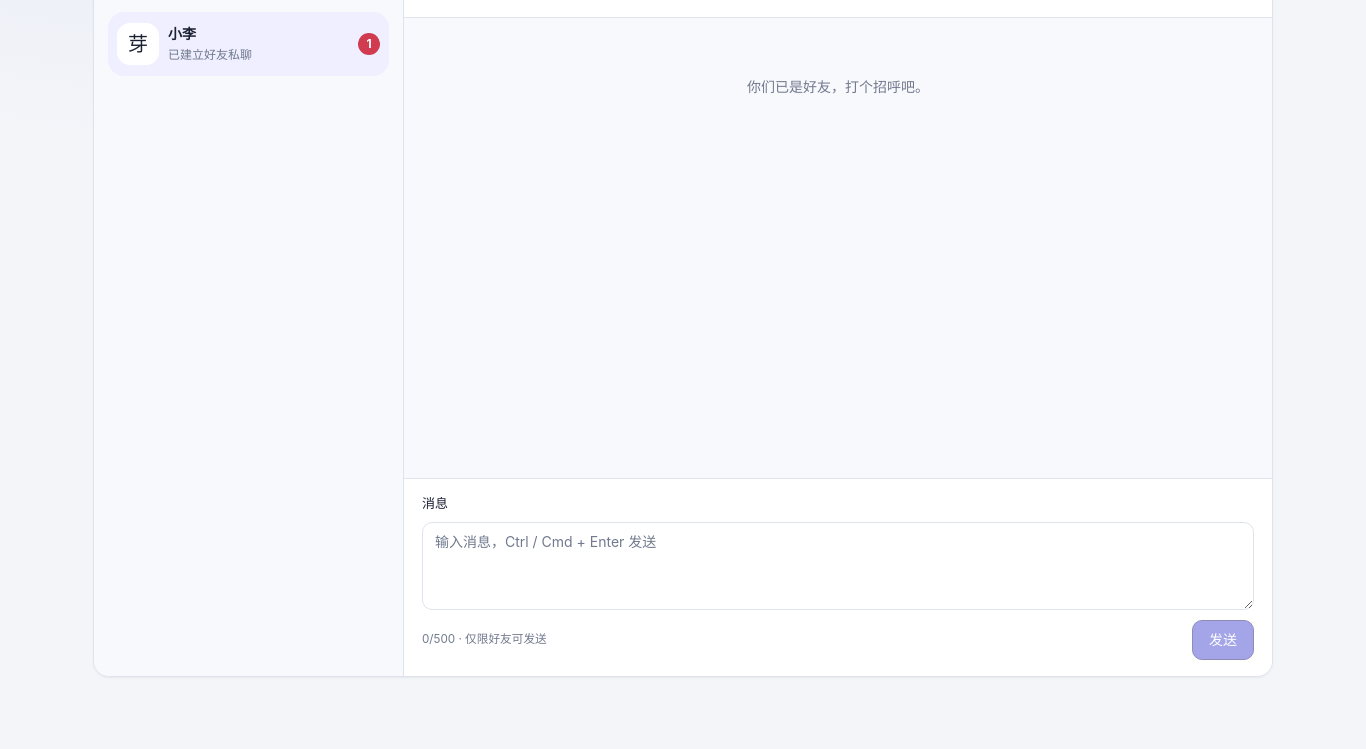
Scenario: CommunityDirectMessagesPage › reconciles a committed send from REST when the realtime message event is lost
(page scrolled)
Type "下班后一起喝咖啡" into the text box labelled "消息" at (838,566), box x1=422 y1=522 x2=1254 y2=610
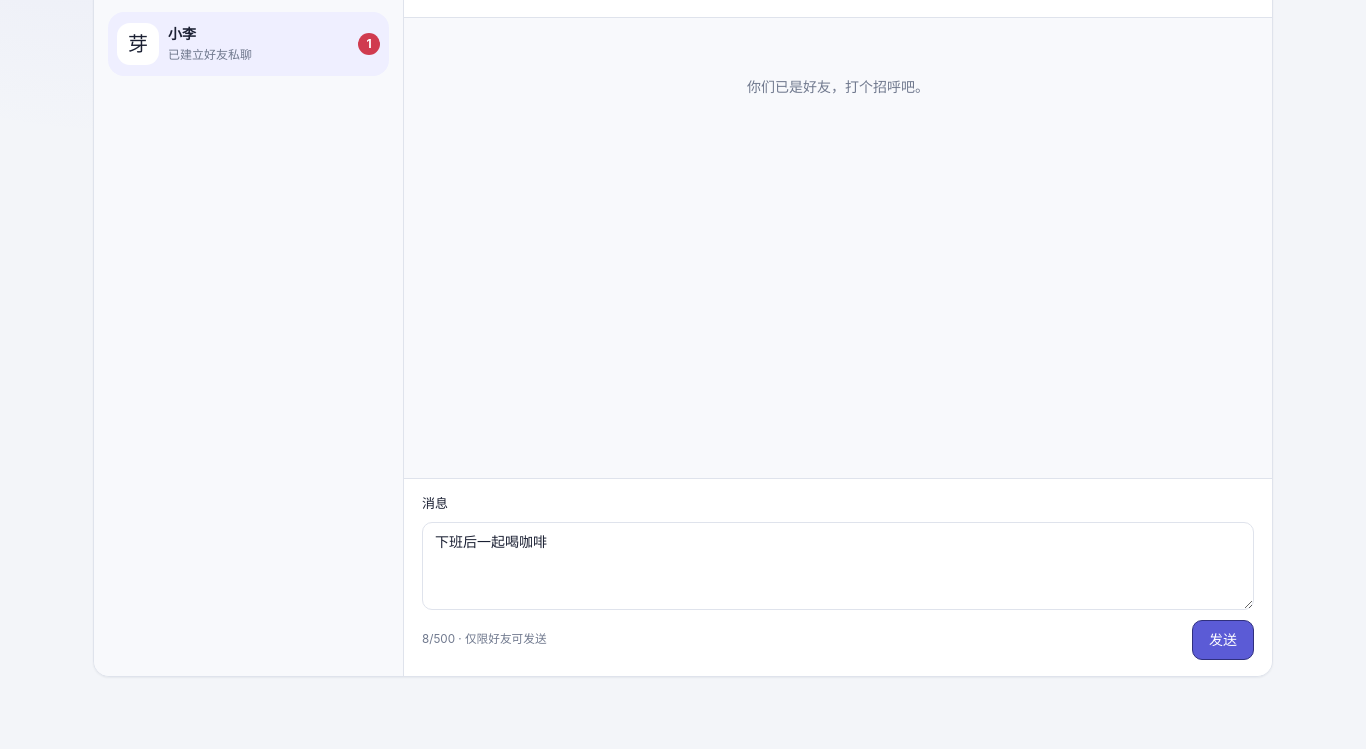
Click the button "发送" at (1223,640), box x1=1192 y1=620 x2=1254 y2=660
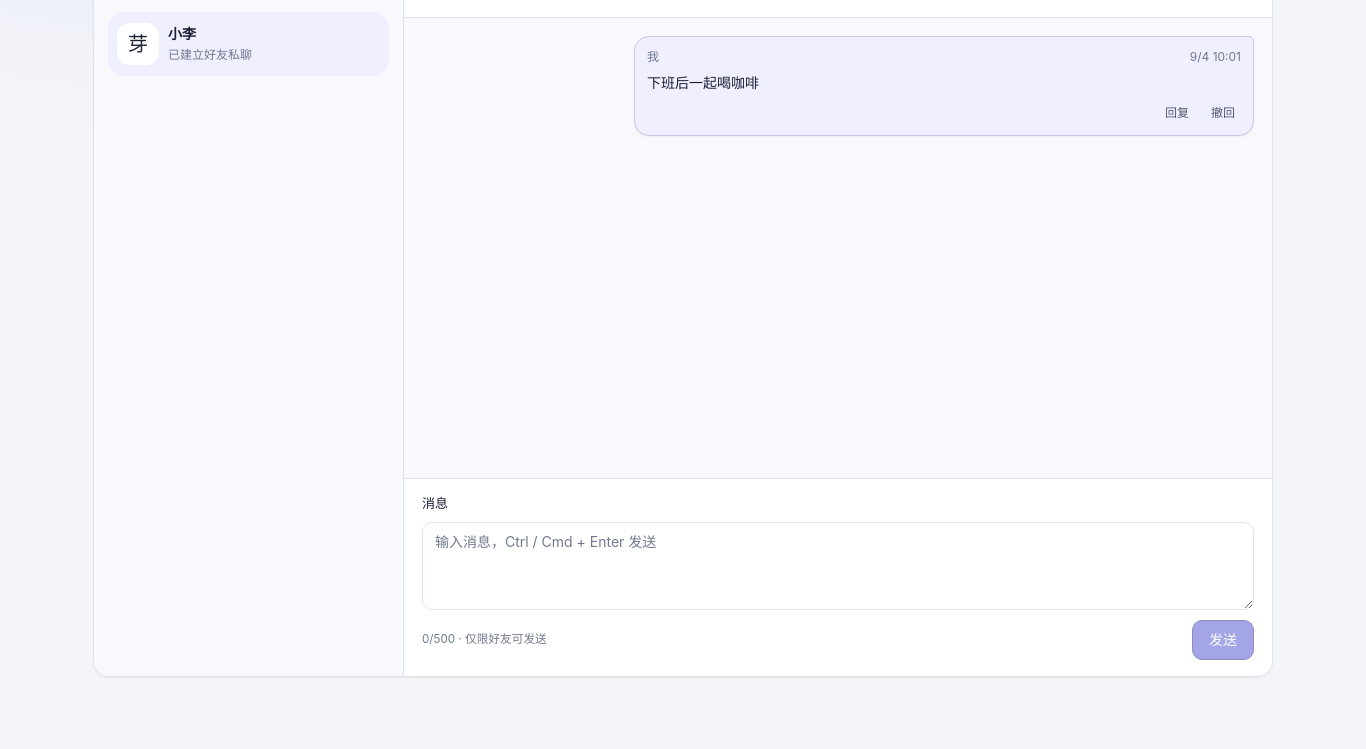
Expected: the text "下班后一起喝咖啡" is shown once, x1=647 y1=74 x2=759 y2=91
